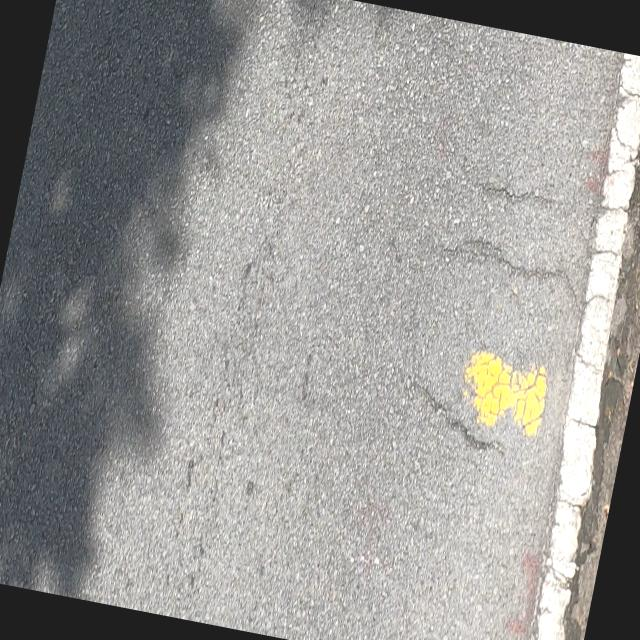Retak-Melintang: (459, 232, 581, 309), (413, 370, 505, 459), (472, 179, 556, 212)
